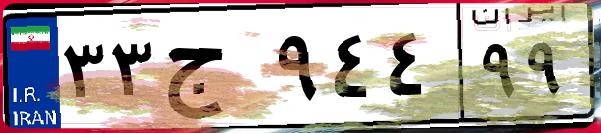3: (57, 26, 110, 100), (110, 28, 158, 98)
4: (385, 28, 445, 110), (330, 28, 385, 110)
9: (270, 28, 330, 110), (475, 38, 525, 113), (525, 38, 570, 115)
ج: (158, 20, 270, 120)
